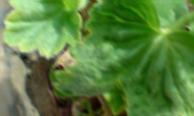Tomato leaf mosaic virus: (47, 0, 194, 116), (1, 0, 88, 56)
